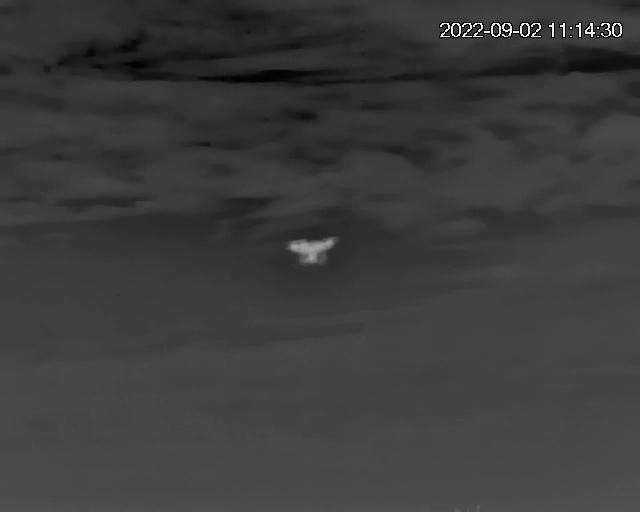DJI-Phantom: (284, 234, 343, 267)
